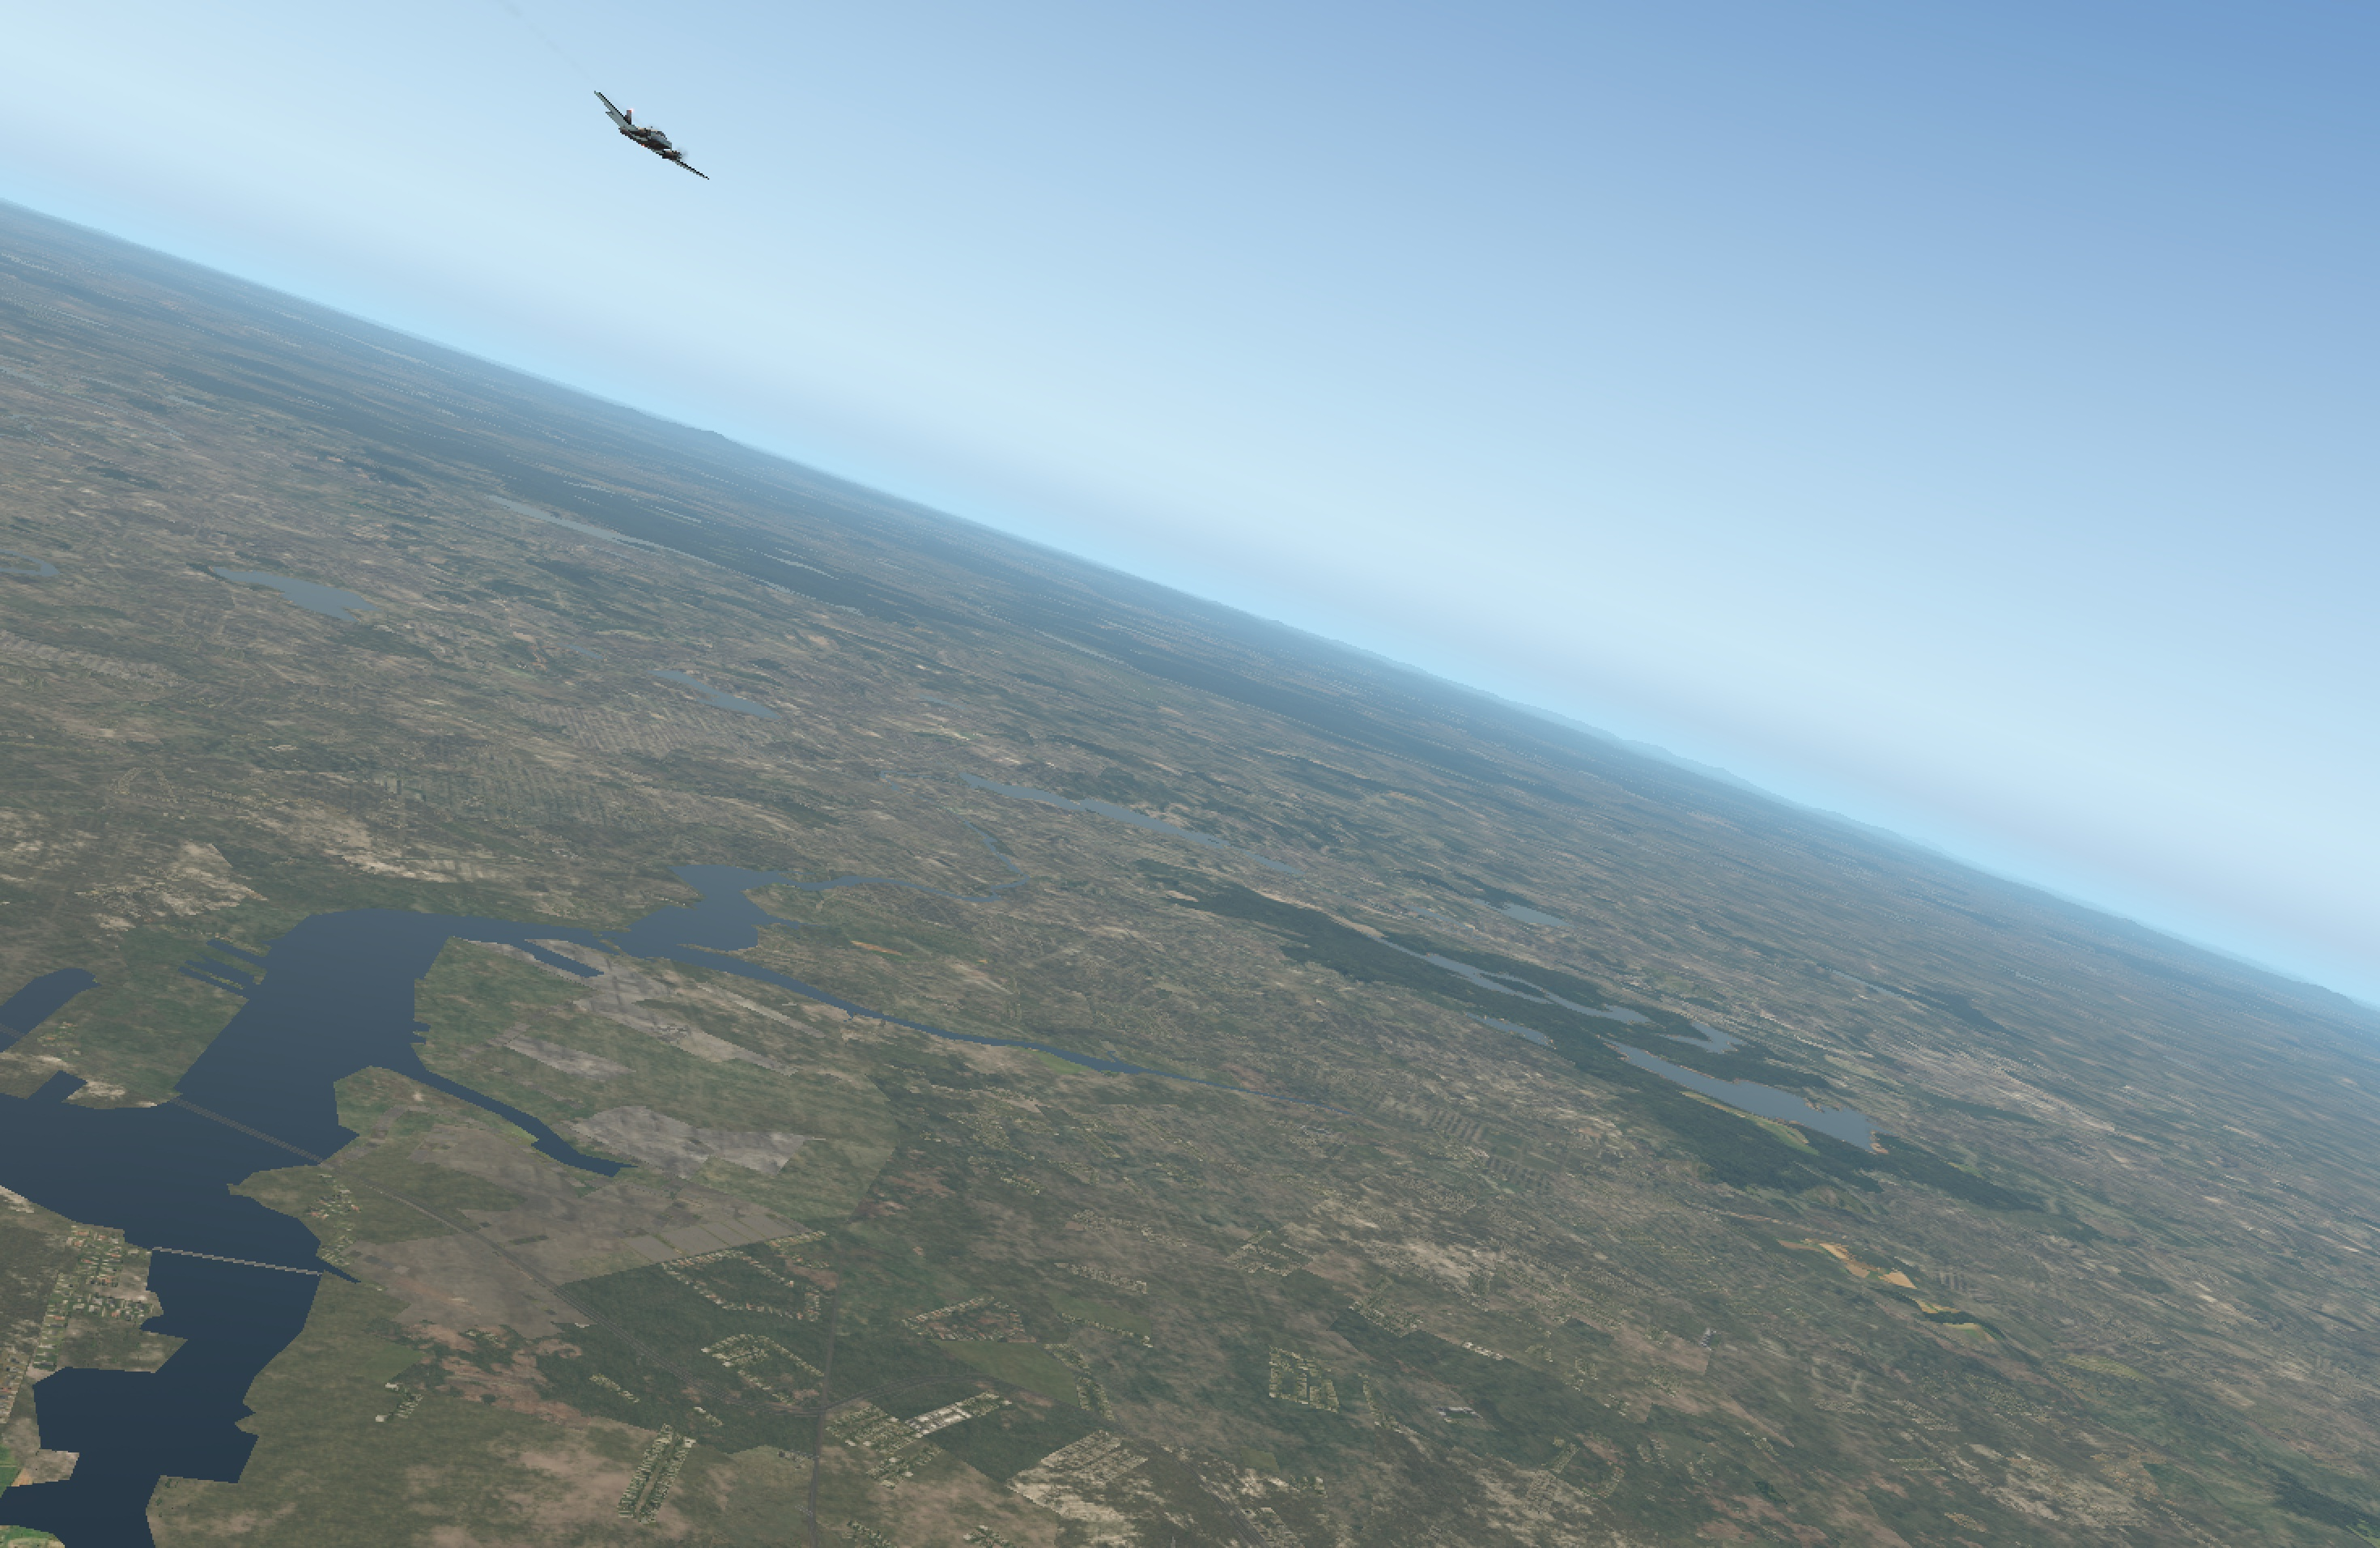aircraft: (579, 118, 722, 172)
